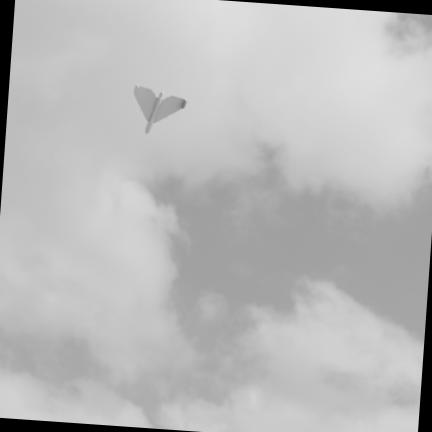Shahed: (133, 84, 185, 132)
